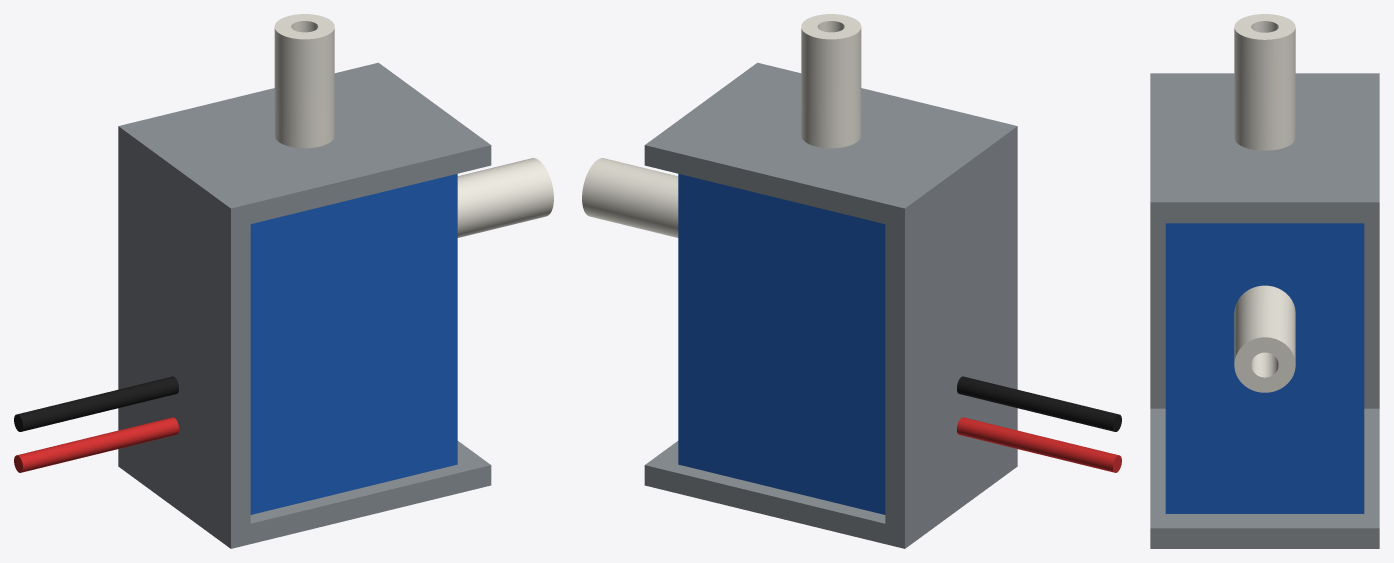
Rendered from solenoid_valve.glb.
3 views of the same model, side by side, from view 1: azimuth 30°, elevation 25°; view 2: azimuth 150°, elevation 25°; view 3: azimuth 270°, elevation 25° (orthographic).
Visible parts, largest first — view 1: housing, coil, port_1_P, port_2_A, wire_red, wire_black; view 2: housing, coil, port_1_P, port_2_A, wire_red, wire_black; view 3: coil, housing, port_1_P, port_2_A.
Boxes of the visible parts, x1,y1,x2,y2 form: housing: [118, 62, 491, 548]; coil: [250, 174, 457, 514]; port_1_P: [274, 14, 334, 148]; port_2_A: [457, 158, 553, 237]; wire_red: [14, 417, 178, 472]; wire_black: [14, 376, 178, 431]; housing: [644, 62, 1017, 548]; coil: [678, 174, 885, 514]; port_1_P: [801, 14, 861, 148]; port_2_A: [582, 158, 678, 237]; wire_red: [957, 417, 1121, 472]; wire_black: [957, 376, 1121, 431]; coil: [1165, 223, 1364, 513]; housing: [1150, 73, 1379, 548]; port_1_P: [1234, 14, 1295, 150]; port_2_A: [1234, 285, 1295, 392].
Bounding box in the file's own units: 0.04 × 0.033 × 0.015.
